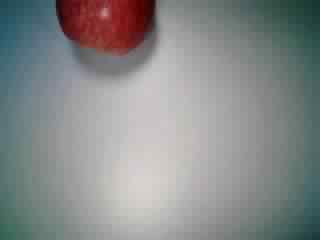apple: (53, 1, 160, 55)
